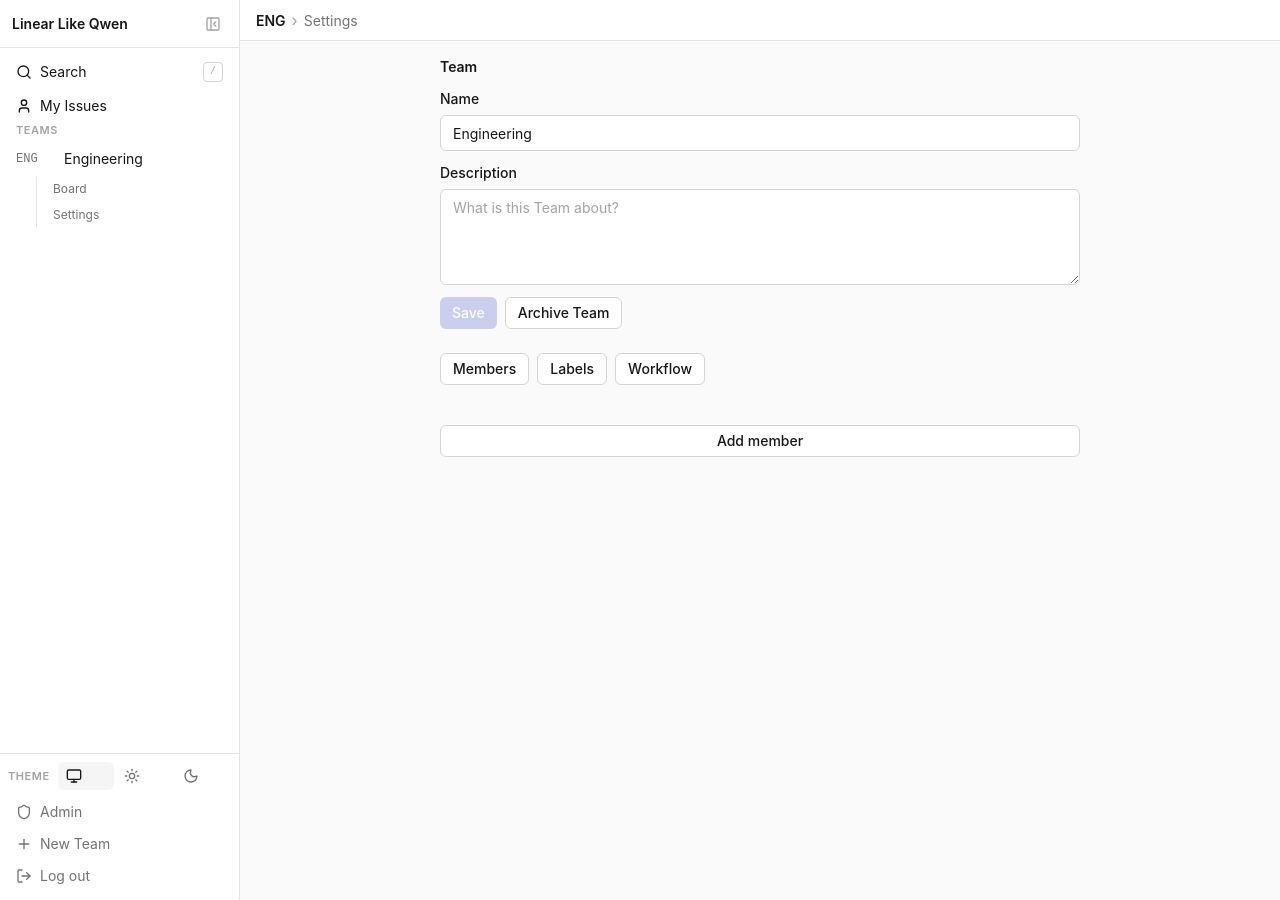
offers the migrate dialog when the server says the State still has Issues
Click the button "Workflow" at (660, 369), box [615,353,705,385]
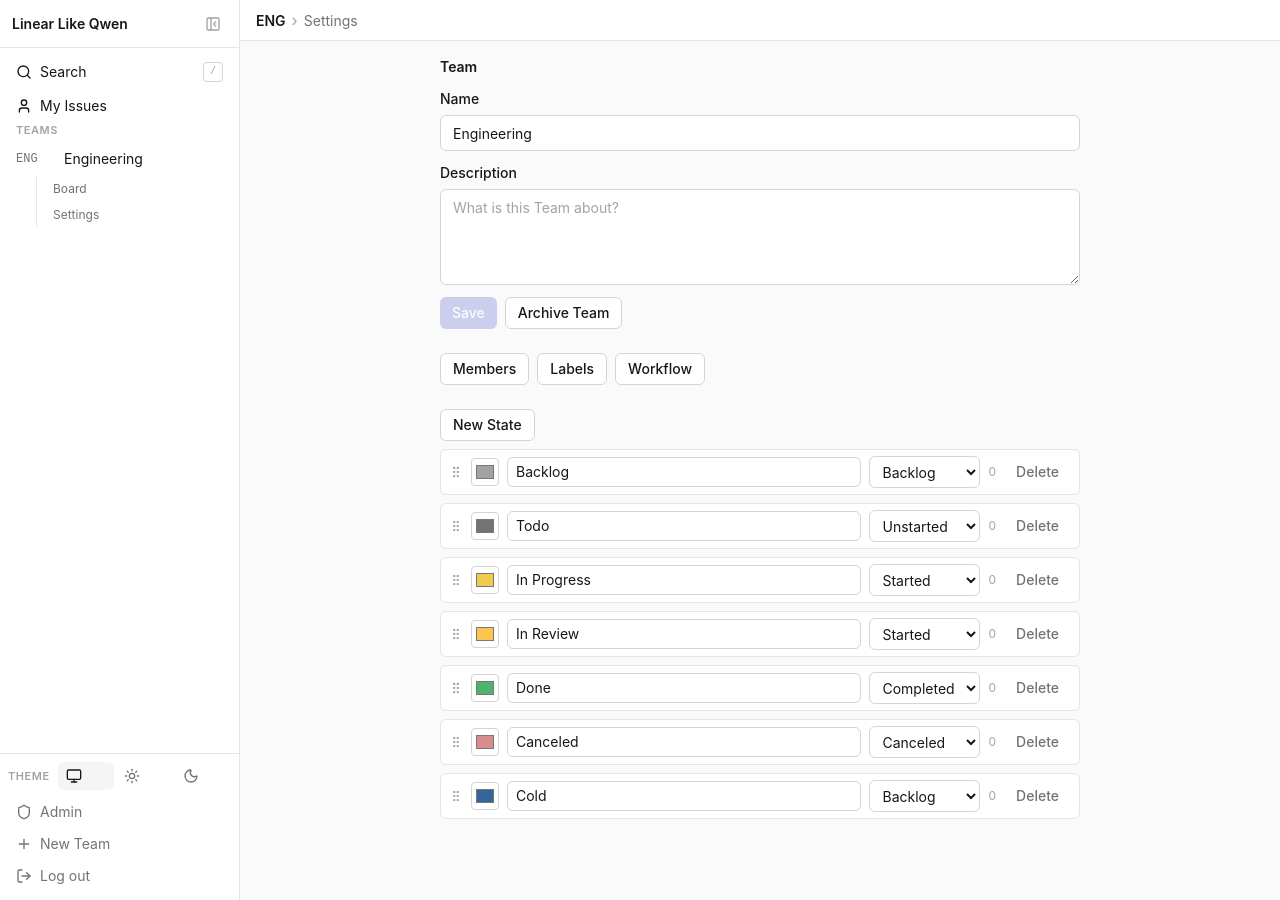
Now the field named "Name for Backlog" is shown, box [507,457,862,487]
Click the 1st button "Delete" at (1038, 472), box [1004,456,1071,488]
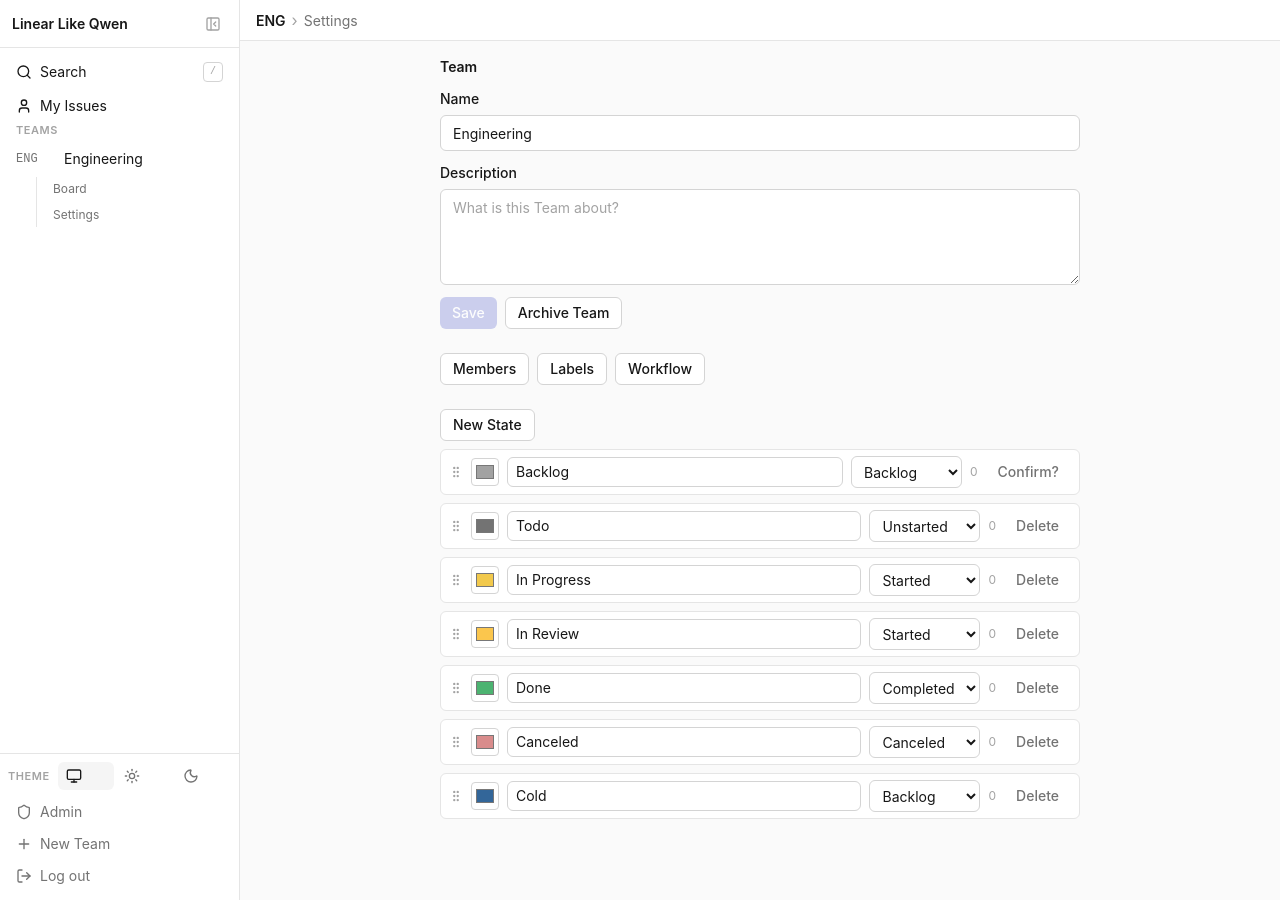
Click the button "Confirm?" at (1028, 472), box [986,456,1071,488]
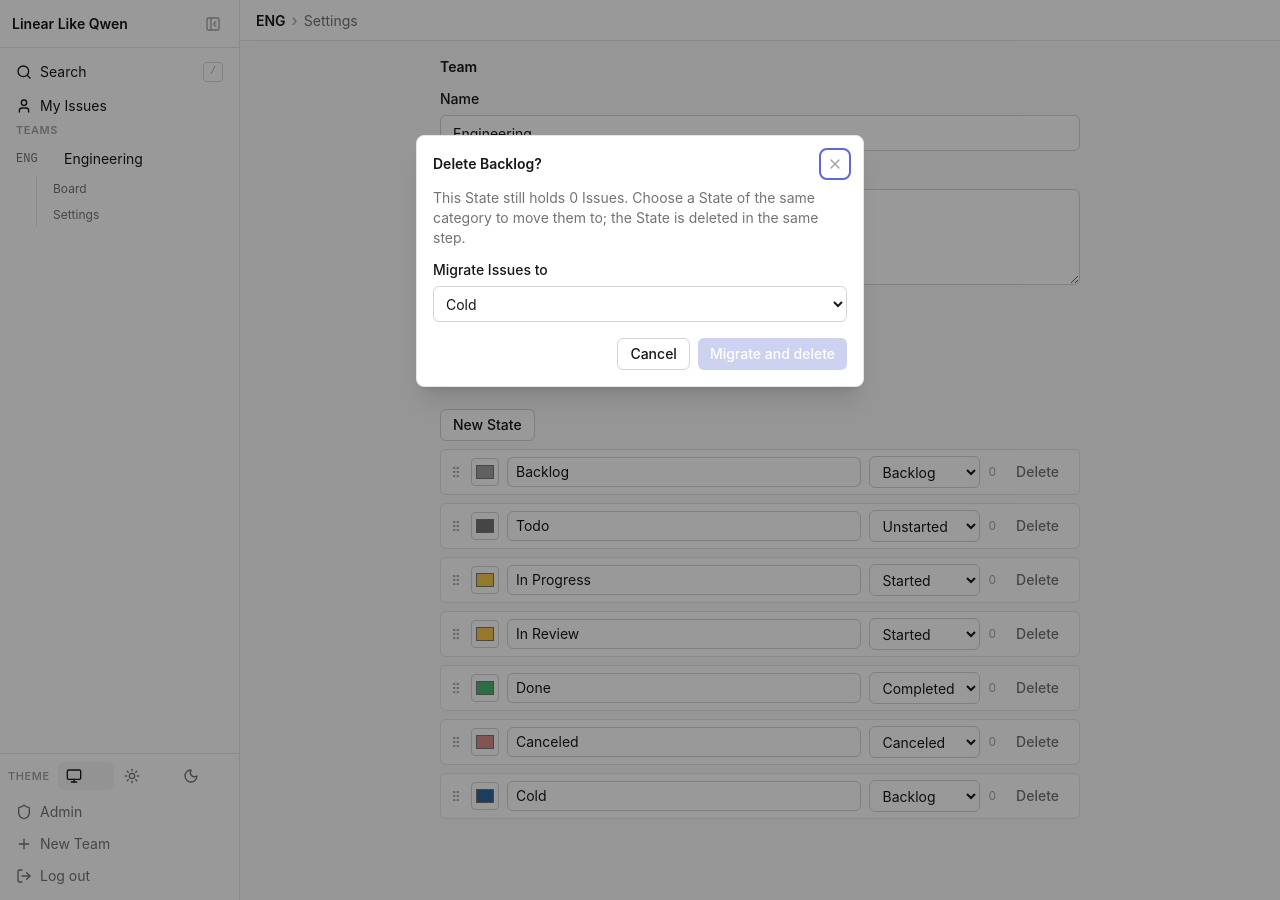
Now the dropdown labelled "Migrate Issues to" is shown, box [433,286,847,322]
